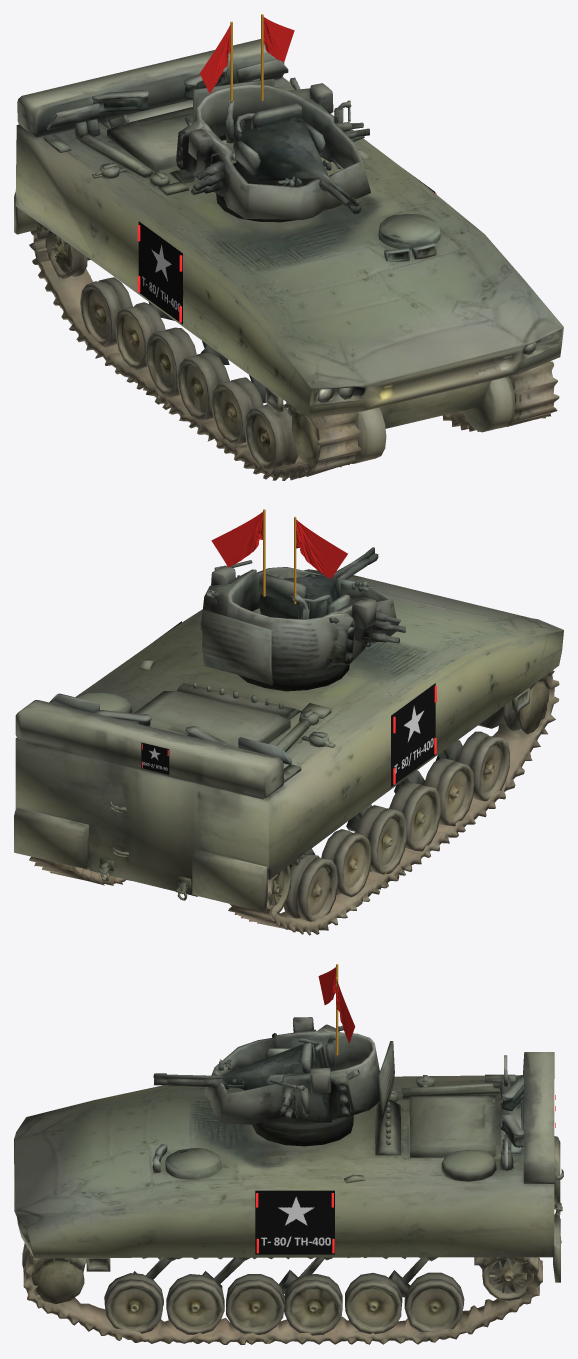
File: 2_x_Live_op4.glb
The picture shows the model from 3 angles, top to bottom: view 1: azimuth 30°, elevation 25°; view 2: azimuth 150°, elevation 25°; view 3: azimuth 270°, elevation 25°; orthographic projection. The views are drawn at different scales.
Parts seen in each view (by area): view 1: tripo_node_b858fb1a.002, tripo_node_b858fb1a.004, Plane.005, Cylinder.001, Cylinder.002; view 2: tripo_node_b858fb1a.002, tripo_node_b858fb1a.004, Plane.005, Cylinder.001, Cylinder.002, Plane.007; view 3: tripo_node_b858fb1a.002, tripo_node_b858fb1a.004, Plane.006, Cylinder.001, Cylinder.002.
Part boxes in pixels (x1,y1,x2,y2): tripo_node_b858fb1a.002: (14,39,563,480); tripo_node_b858fb1a.004: (176,77,370,222); Plane.005: (137,221,182,324); Cylinder.001: (261,14,294,100); Cylinder.002: (199,21,232,101); tripo_node_b858fb1a.002: (14,569,563,935); tripo_node_b858fb1a.004: (200,547,405,691); Plane.005: (391,683,435,786); Cylinder.001: (211,509,265,596); Cylinder.002: (294,516,347,603); Plane.007: (141,742,169,774); tripo_node_b858fb1a.002: (14,1052,563,1344); tripo_node_b858fb1a.004: (153,1017,394,1146); Plane.006: (255,1190,334,1254); Cylinder.001: (336,977,355,1055); Cylinder.002: (318,964,338,1004).
Size of the model in its own units: 1.36 by 1.76 by 2.8.
Materials: 7 (4 with a texture image).
